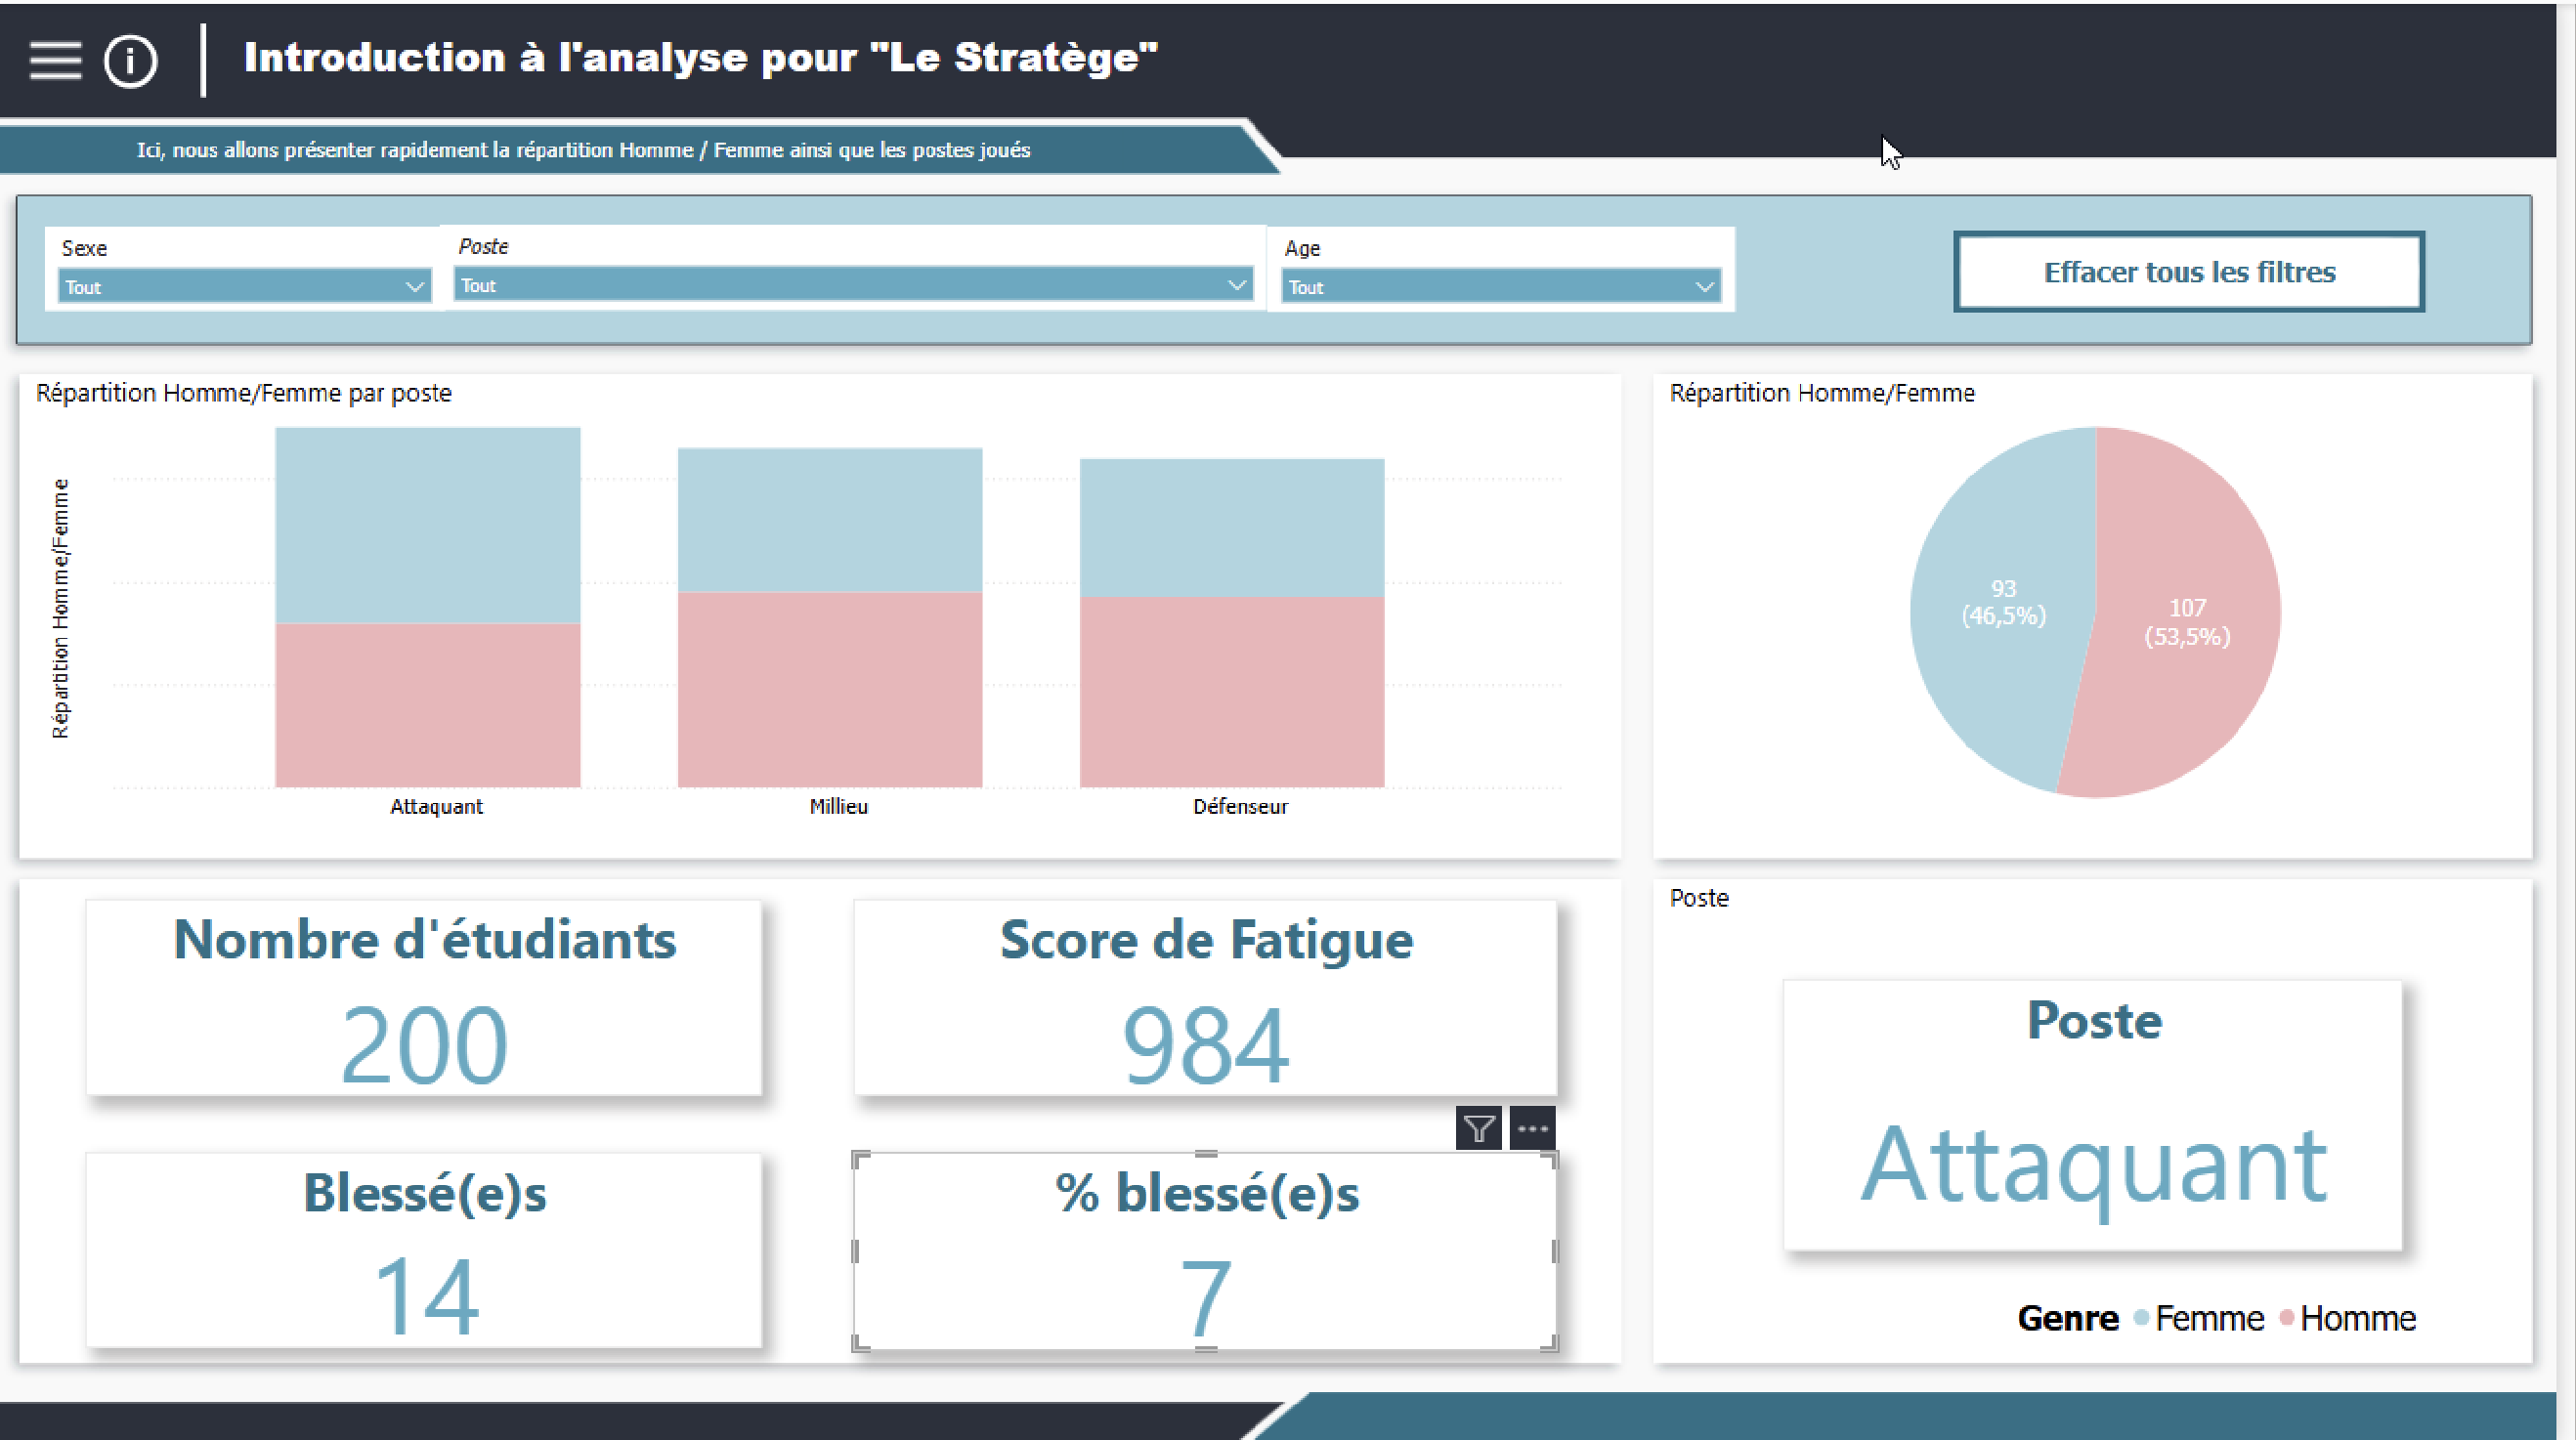

The page's visual inventory and layout, read from the dashboard file:
{"tool":"powerbi","page":{"name":"Intro","canvas":[1920,1080],"ordinal":0},"visuals":[{"type":"shape","box":[0,130.4,1916,139.7],"z":0,"group":"g2"},{"type":"shape","title":"Timeline","box":[2.7,264.7,1229,390],"z":0,"group":"g4"},{"type":"group","id":"g1","title":"Group 2","box":[1230,264.7,686,390],"z":0},{"type":"shape","title":"Segment","box":[1230,264.7,686,390],"z":0,"group":"g1"},{"type":"shape","title":"Sales","box":[2.7,645.1,1229,389.7],"z":0,"group":"g3"},{"type":"shape","title":"Region","box":[1230,645.1,686,389.7],"z":0,"group":"g5"},{"type":"textbox","title":"Introduction à l''analyse pour  \"Le Stratège\"","box":[178.8,18.8,822.6,47.1],"z":1000},{"type":"image","box":[13.2,15.1,60.2,56.5],"z":2000},{"type":"actionButton","box":[73.4,15.1,54.6,56.5],"z":3000},{"type":"shape","title":"Vertical","box":[128,15.1,50.8,56.5],"z":4000},{"type":"group","id":"g2","title":"KPI Cards 2","box":[0,130.4,1916,139.7],"z":5000},{"type":"group","id":"g3","title":"Group 1","box":[2.7,645.1,1229,389.7],"z":6000},{"type":"group","id":"g4","title":"Timeline","box":[2.7,264.7,1229,390],"z":7000},{"type":"group","id":"g5","title":"Donut Region","box":[1230,645.1,686,389.7],"z":8000},{"type":"group","id":"g6","title":"Filter","box":[0,0,1920.6,1080],"z":9000},{"type":"pieChart","fields":{"Category":["collegiate_athlete_injury_dataset.Gender"],"Y":["collegiate_athlete_injury_dataset.Count_gender"]},"box":[1244.4,269.9,661.1,374.9],"z":10000},{"type":"card","title":"Nombre d''étudiants","fields":{"Values":["collegiate_athlete_injury_dataset.Count_gender"]},"box":[64.7,671.7,508.1,148.4],"z":11000},{"type":"card","title":"Blessé(e)s","fields":{"Values":["Sum(collegiate_athlete_injury_dataset.Injury_Indicator)"]},"box":[64.7,862,508.1,146.5],"z":12000},{"type":"columnChart","fields":{"Category":["collegiate_athlete_injury_dataset.Position"],"Series":["collegiate_athlete_injury_dataset.Gender"],"Y":["collegiate_athlete_injury_dataset.Répartition Homme/Femme"]},"box":[34.4,304.3,1144.8,317],"z":13000},{"type":"card","title":"Poste","fields":{"Values":["Min(collegiate_athlete_injury_dataset.Poste)"]},"box":[1338.9,732.3,466.5,203.8],"z":14000},{"type":"textbox","box":[34.4,94.2,809.7,30.8],"z":15000},{"type":"pieChart","fields":{"Category":["collegiate_athlete_injury_dataset.Gender"],"Y":["collegiate_athlete_injury_dataset.Count_gender"]},"box":[1510.6,965.4,373.1,45.3],"z":16000},{"type":"slicer","fields":{"Values":["collegiate_athlete_injury_dataset.Gender"]},"box":[34.2,167.1,300.7,63],"z":17000},{"type":"slicer","fields":{"Values":["collegiate_athlete_injury_dataset.Age"]},"box":[952.8,166.6,351.4,64.1],"z":18000},{"type":"slicer","fields":{"Values":["collegiate_athlete_injury_dataset.Poste"]},"box":[331.5,166.4,621.2,64.4],"z":18501,"group":"g2"},{"type":"actionButton","box":[1467.2,170.3,355,61.6],"z":19000},{"type":"card","title":"Score de Fatigue","fields":{"Values":["Sum(collegiate_athlete_injury_dataset.Fatigue_Score)"]},"box":[641.3,671.7,529,148.4],"z":20000},{"type":"card","title":"%  blessé(e)s","fields":{"Values":["collegiate_athlete_injury_dataset.Percent_injury"]},"box":[641.3,862,529,150.3],"z":21000}]}

Visuals, with their boxes on the page's 1920x1080 design canvas (x1, y1, x2, y2). These are canvas units, not pixel positions in the 2576x1440 screenshot, which may show the page scaled, cropped or inside an application window:
shape: detection(0, 130, 1916, 270)
"Timeline" shape: detection(3, 265, 1232, 655)
"Group 2" group: detection(1230, 265, 1916, 655)
"Segment" shape: detection(1230, 265, 1916, 655)
"Sales" shape: detection(3, 645, 1232, 1035)
"Region" shape: detection(1230, 645, 1916, 1035)
"Introduction à l''analyse pour  "Le Stratège"" textbox: detection(179, 19, 1001, 66)
image: detection(13, 15, 73, 72)
actionButton: detection(73, 15, 128, 72)
"Vertical" shape: detection(128, 15, 179, 72)
"KPI Cards 2" group: detection(0, 130, 1916, 270)
"Group 1" group: detection(3, 645, 1232, 1035)
"Timeline" group: detection(3, 265, 1232, 655)
"Donut Region" group: detection(1230, 645, 1916, 1035)
"Filter" group: detection(0, 0, 1921, 1080)
pieChart - collegiate_athlete_injury_dataset.Gender x collegiate_athlete_injury_dataset.Count_gender: detection(1244, 270, 1906, 645)
"Nombre d''étudiants" card: detection(65, 672, 573, 820)
"Blessé(e)s" card: detection(65, 862, 573, 1008)
columnChart - collegiate_athlete_injury_dataset.Position x collegiate_athlete_injury_dataset.Gender: detection(34, 304, 1179, 621)
"Poste" card: detection(1339, 732, 1805, 936)
textbox: detection(34, 94, 844, 125)
pieChart - collegiate_athlete_injury_dataset.Gender x collegiate_athlete_injury_dataset.Count_gender: detection(1511, 965, 1884, 1011)
slicer - collegiate_athlete_injury_dataset.Gender: detection(34, 167, 335, 230)
slicer - collegiate_athlete_injury_dataset.Age: detection(953, 167, 1304, 231)
slicer - collegiate_athlete_injury_dataset.Poste: detection(332, 166, 953, 231)
actionButton: detection(1467, 170, 1822, 232)
"Score de Fatigue" card: detection(641, 672, 1170, 820)
"%  blessé(e)s" card: detection(641, 862, 1170, 1012)
